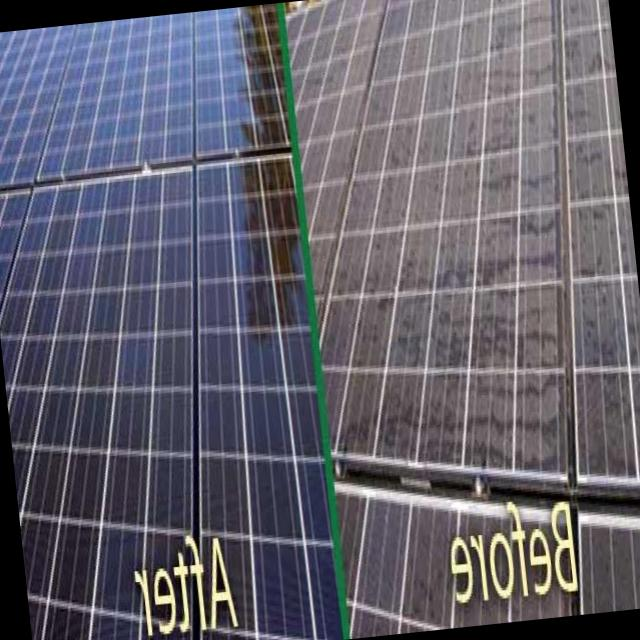faulty: (287, 0, 640, 636)
no faulty: (0, 10, 345, 640)
